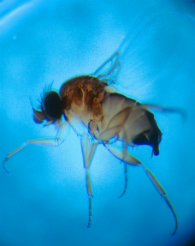phorid fly: (3, 37, 188, 238)
